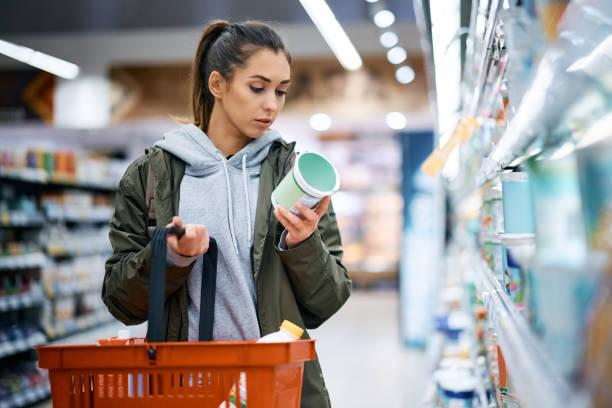Person: (156, 21, 290, 339)
article: (271, 152, 339, 212), (502, 173, 533, 232), (437, 370, 475, 407)
cage: (37, 338, 315, 407)
